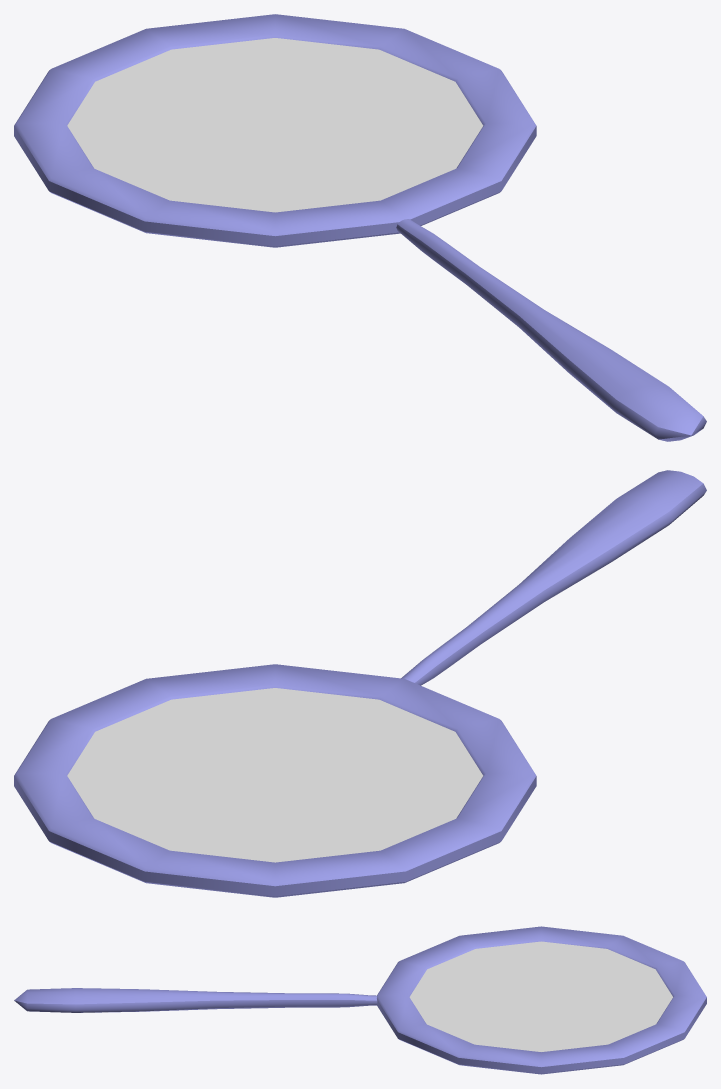
Rendered from Espelho.fbx.
3 views of the same model, one above another, from view 1: azimuth 30°, elevation 25°; view 2: azimuth 150°, elevation 25°; view 3: azimuth 270°, elevation 25° (orthographic). The views are drawn at different scales.
Visible parts, largest first — view 1: Espelho; view 2: Espelho; view 3: Espelho.
Part boxes in pixels (box(x1,y1,x2,y2)): Espelho: box(14, 14, 706, 441); Espelho: box(14, 470, 706, 897); Espelho: box(14, 926, 706, 1074).
Bounding box in the file's own units: 28.38 × 1.64 × 59.38.
